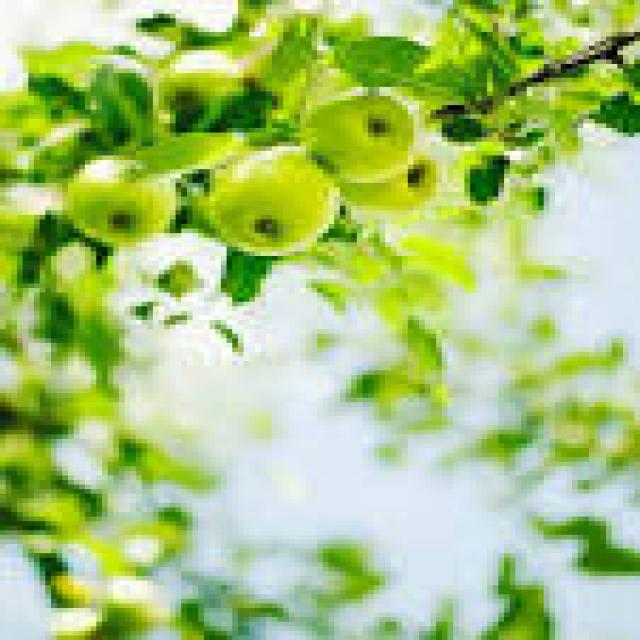apple: (204, 147, 339, 255), (68, 156, 181, 246), (301, 92, 413, 182), (159, 51, 243, 127), (340, 156, 436, 210)
